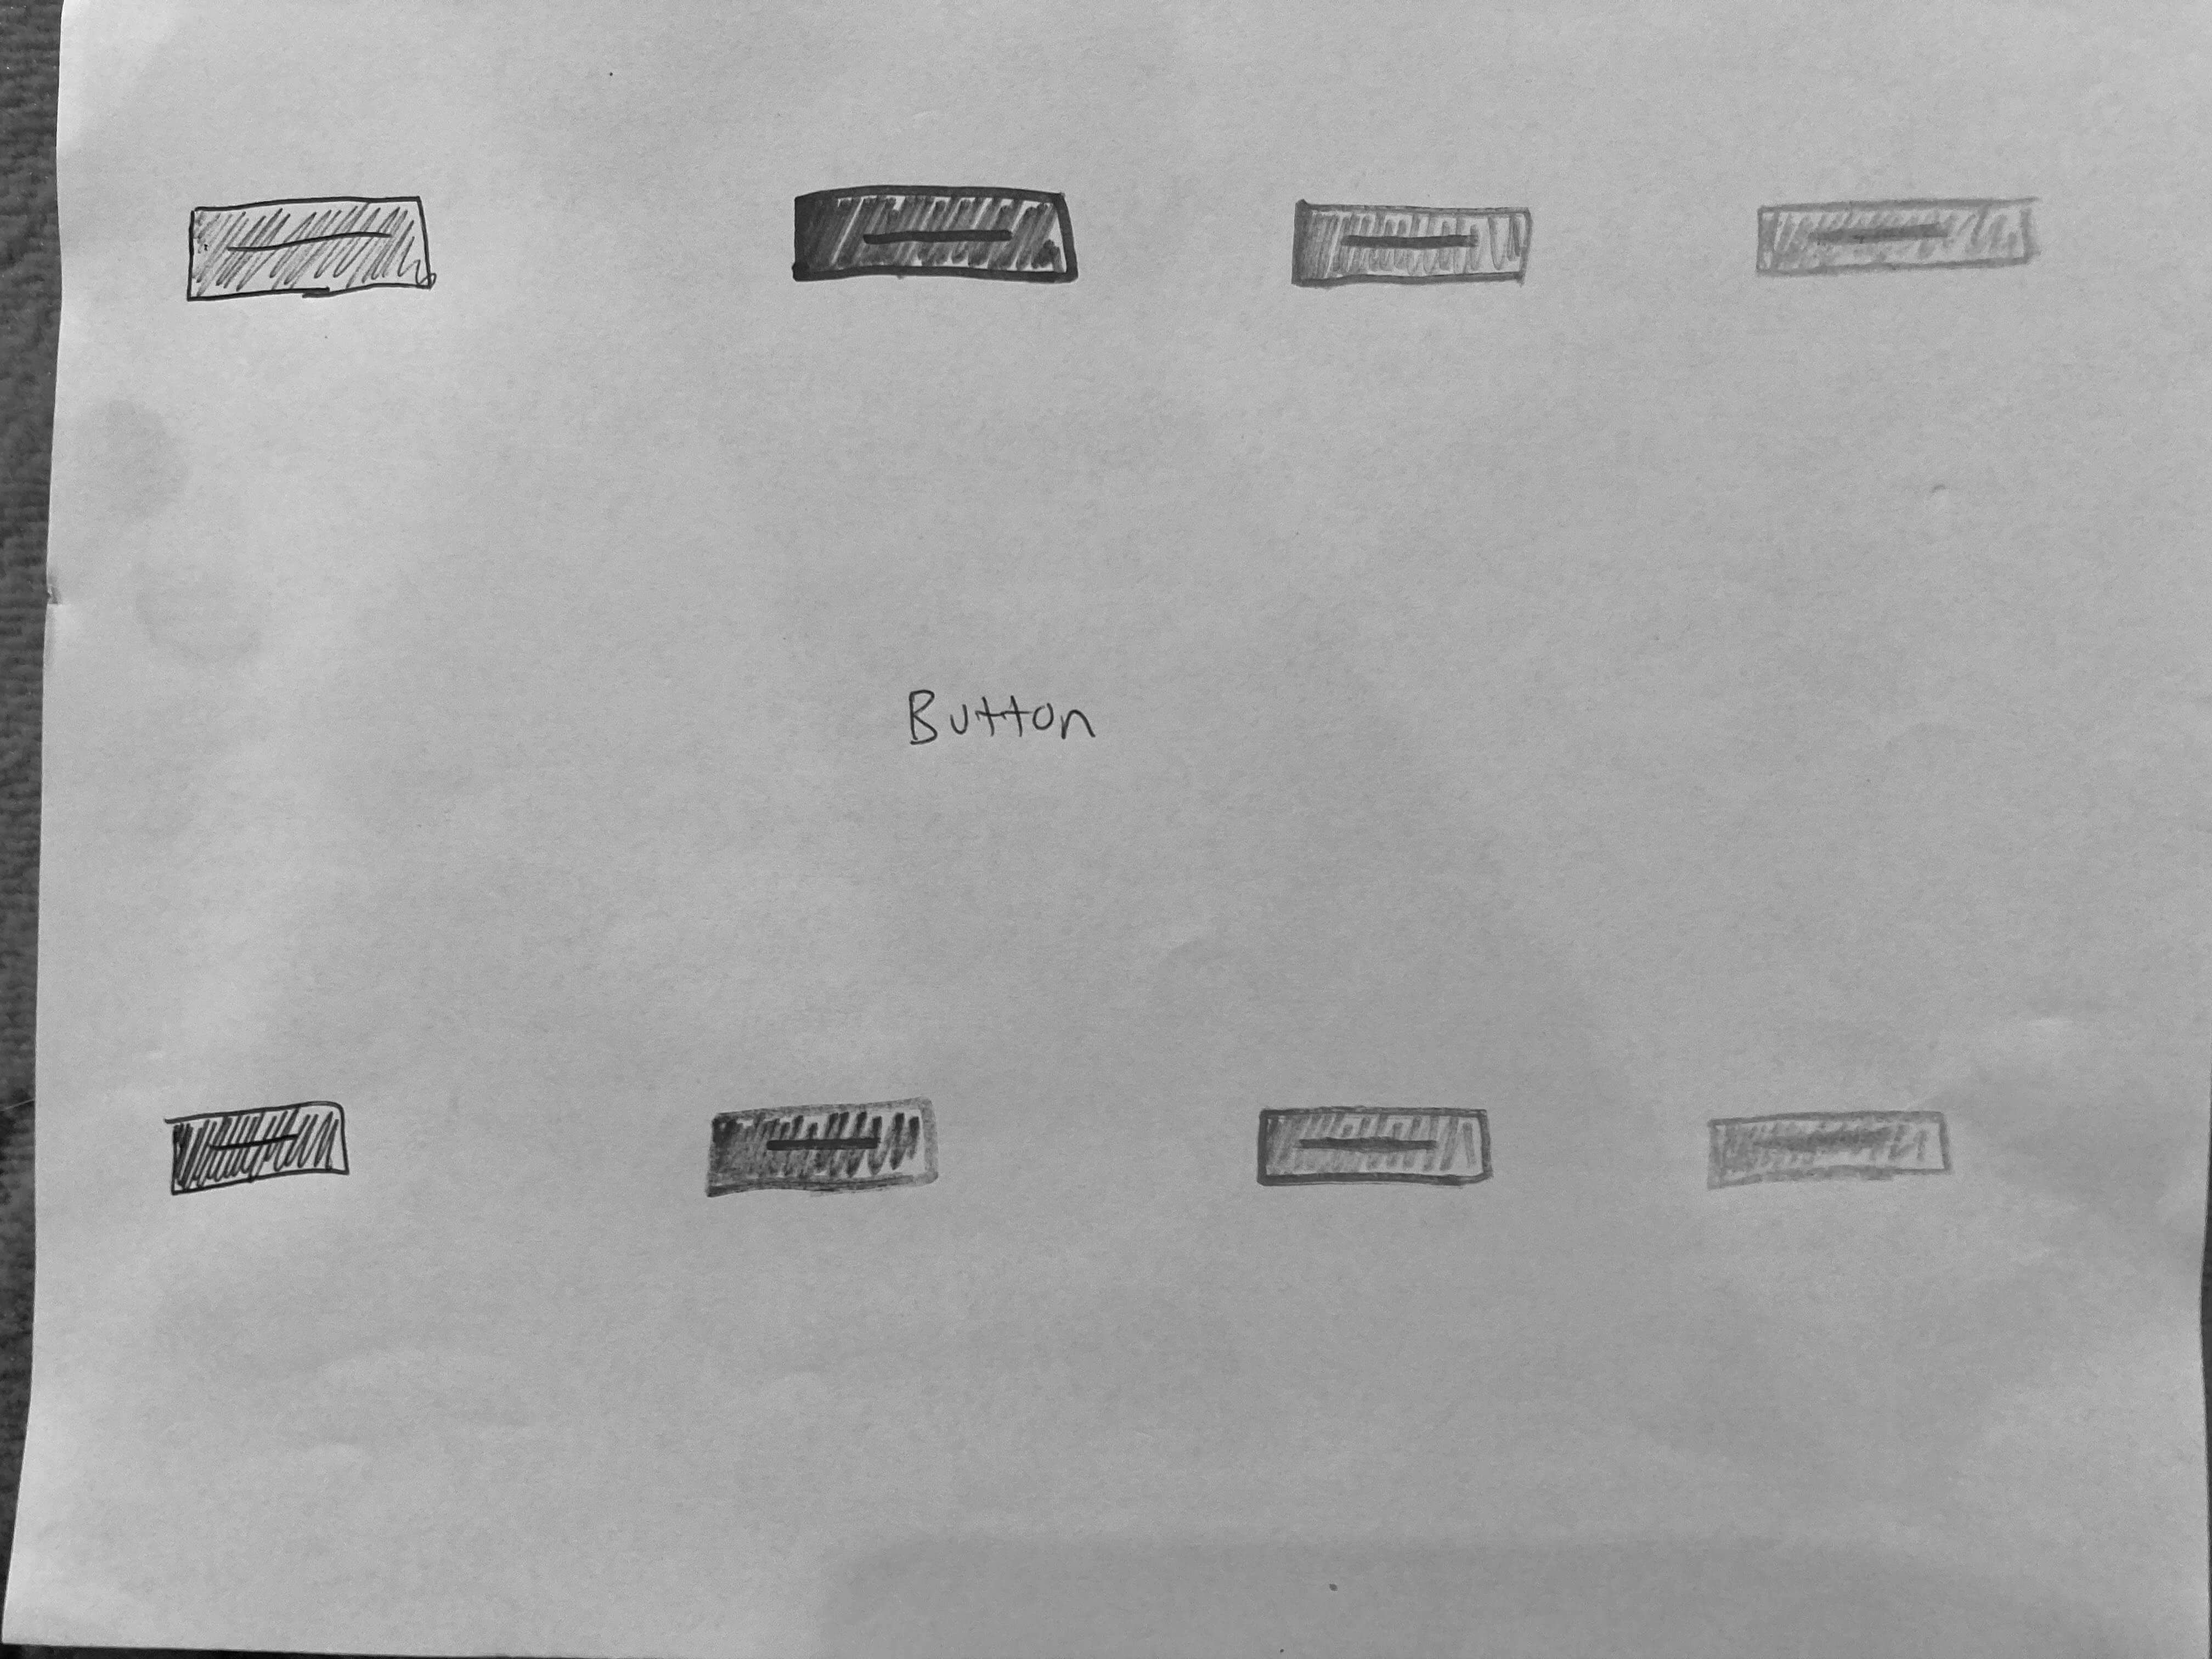button: (787, 181, 1090, 303), (183, 192, 453, 312), (1291, 188, 1536, 308), (1742, 192, 2048, 282), (1249, 1089, 1498, 1195), (1702, 1100, 1958, 1190)
